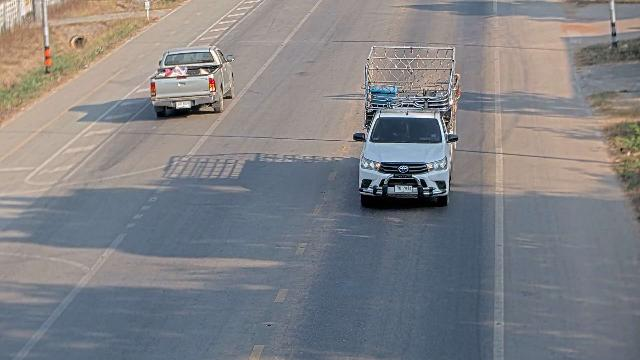pickup-truck: (352, 88, 459, 207), (149, 45, 235, 117)
